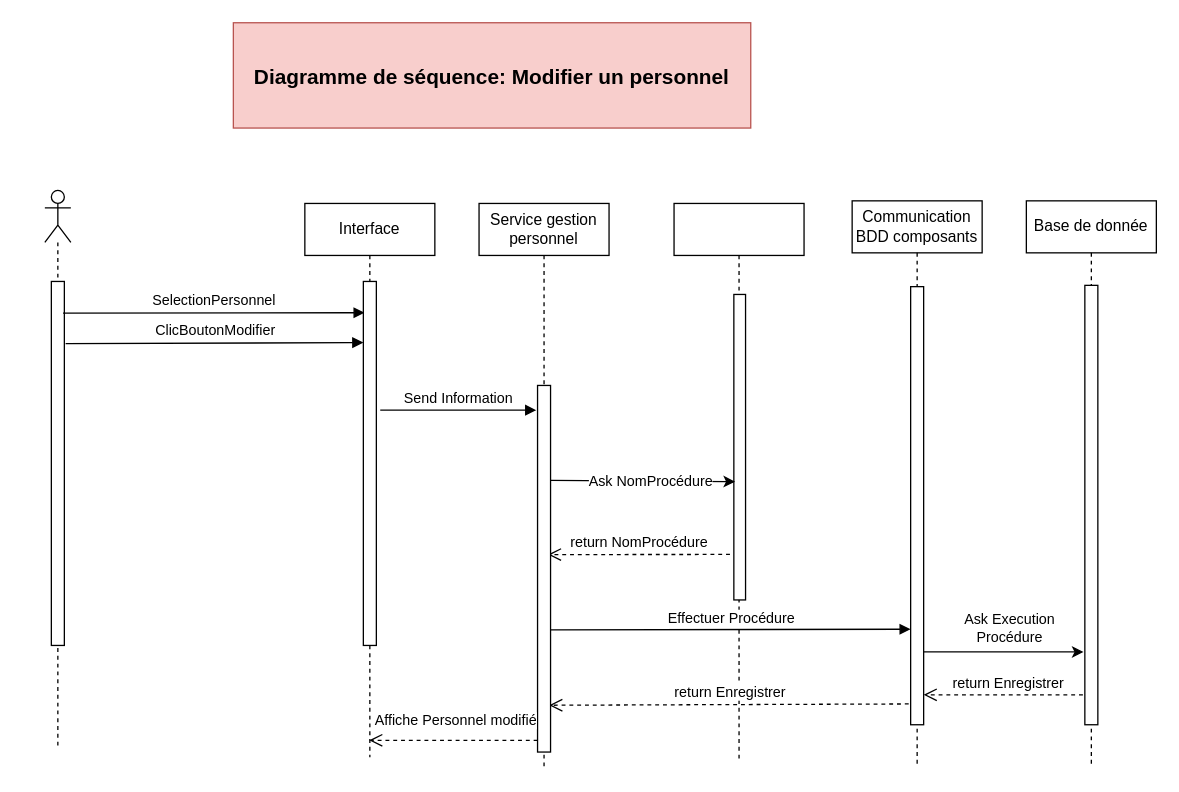
Image size: 1179x792. Some labels were removed from this diagram. The box of each missing label's shape, as (x1, y1, x2, y2) in pixels:
Mappage composants: (673, 202, 804, 759)
Personnel: (44, 189, 71, 746)
